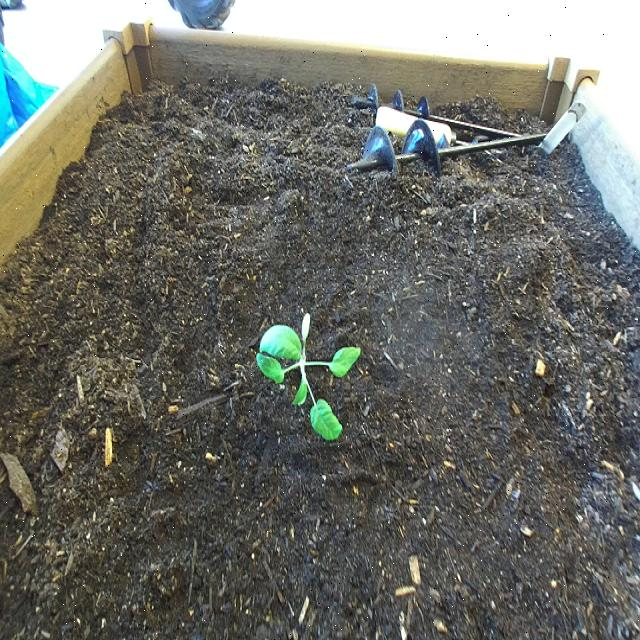Healthy: (248, 293, 367, 448)
